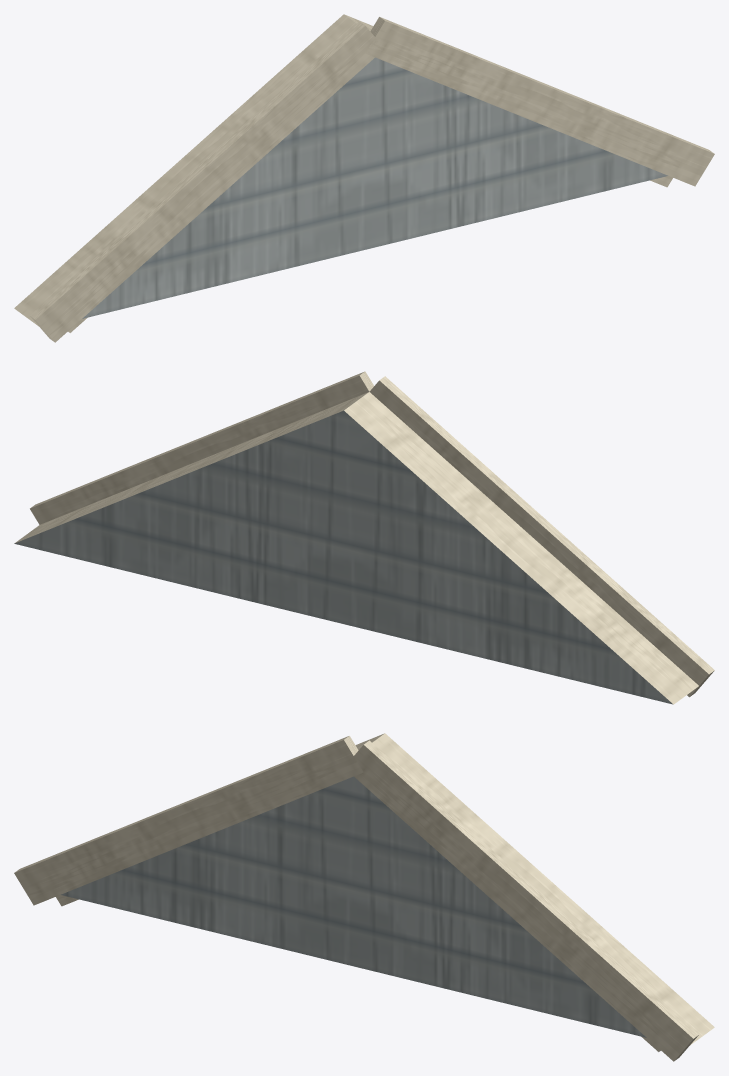
Rendered from house_02_gable.glb.
3 views of the same model, one above another, from view 1: azimuth 30°, elevation 25°; view 2: azimuth 150°, elevation 25°; view 3: azimuth 330°, elevation 25° (orthographic).
Parts seen in each view (by area): view 1: outdoor_house_02_gable; view 2: outdoor_house_02_gable; view 3: outdoor_house_02_gable.
Part boxes in pixels (x1,y1,x2,y2): outdoor_house_02_gable: (14, 14, 714, 342); outdoor_house_02_gable: (14, 371, 714, 704); outdoor_house_02_gable: (14, 733, 714, 1061).
Bounding box in the file's own units: 3 × 1.02 × 0.24.
Materials: 1 (1 with a texture image).
